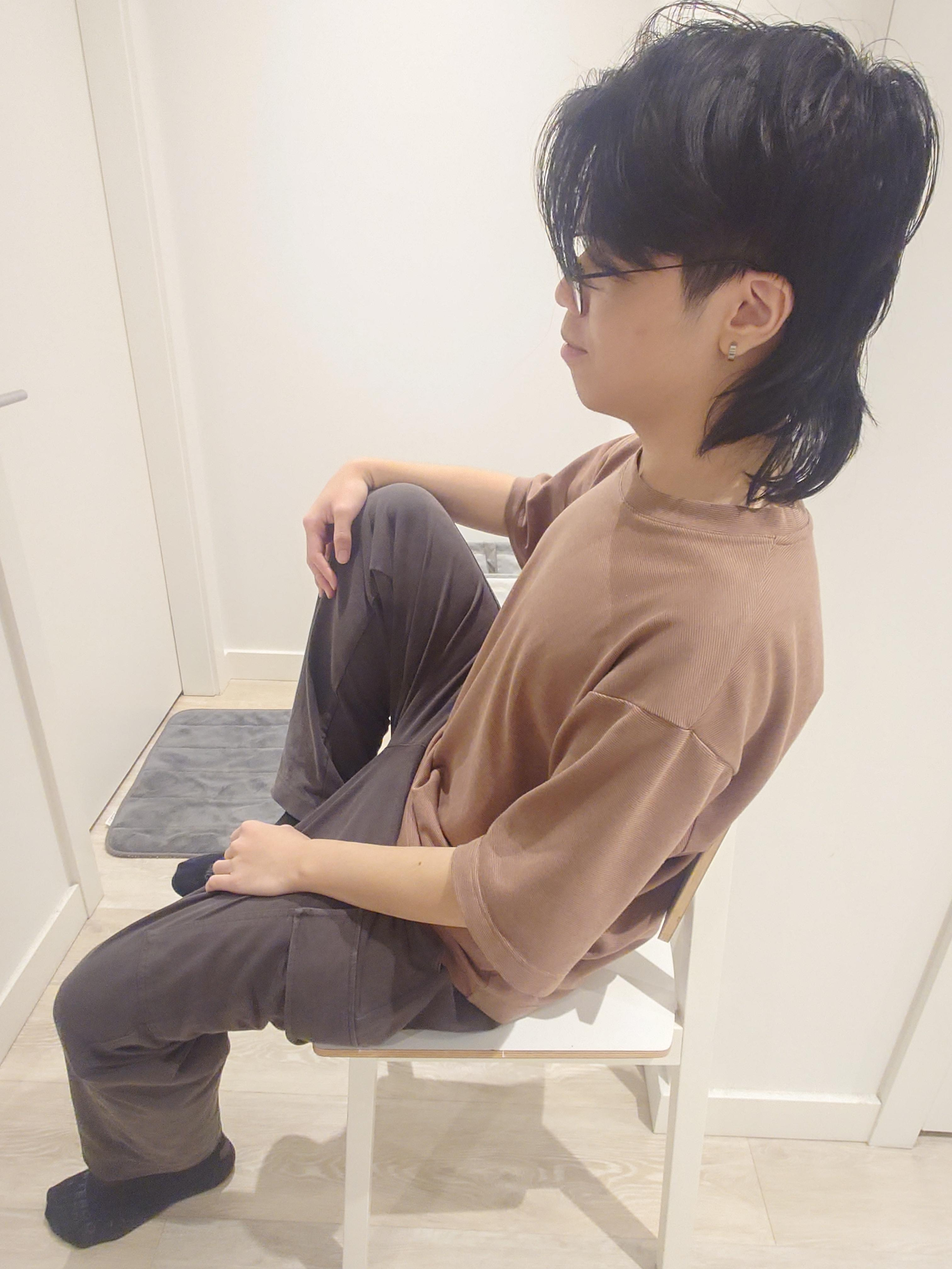BadPosture: (39, 20, 935, 1249)
